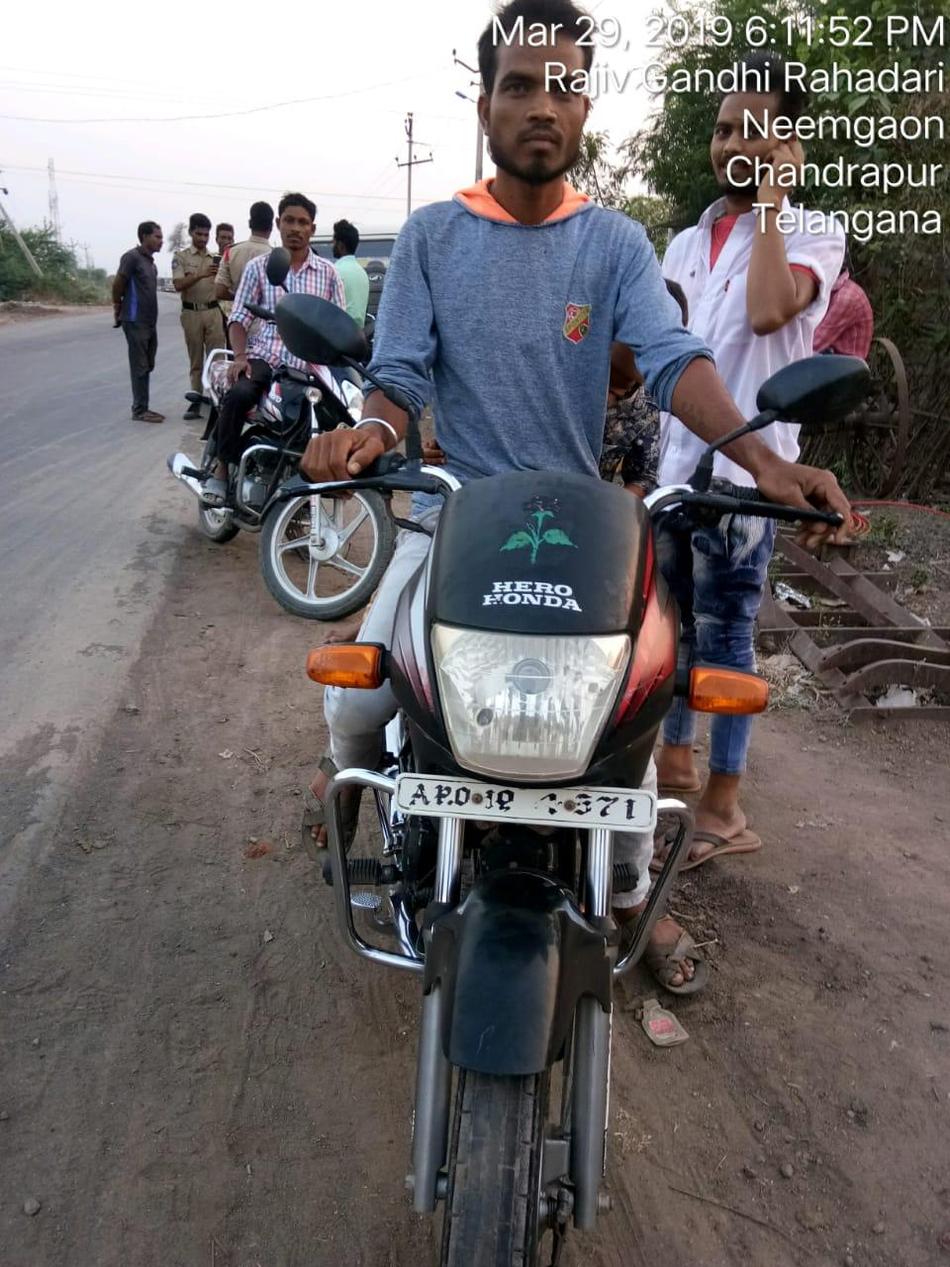plate: (379, 746, 679, 855)
